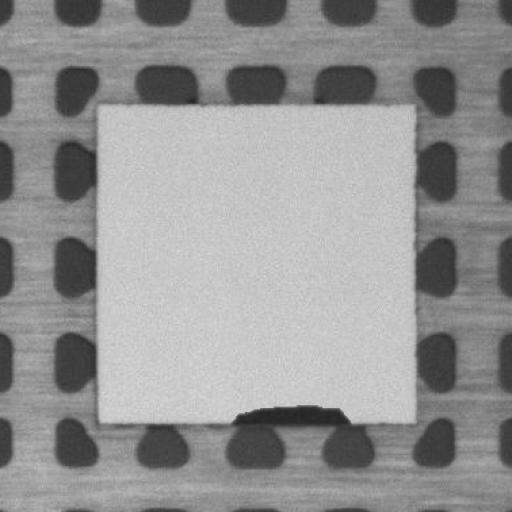DIE_BROKEN: (225, 398, 352, 427)
